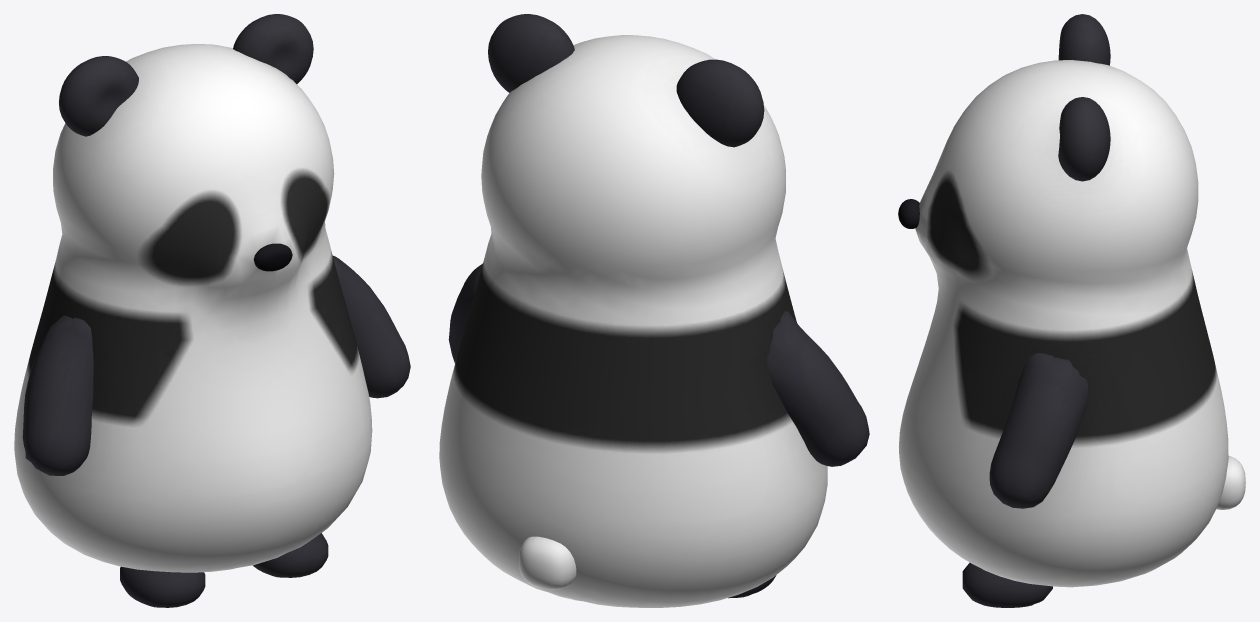
File: panda.glb
3 renders of one model, left to right at view 1: azimuth 30°, elevation 25°; view 2: azimuth 150°, elevation 25°; view 3: azimuth 270°, elevation 25°, orthographic. The views are drawn at different scales.
Parts seen in each view (by area): view 1: cuerpo, brazoI, brazoD, orejaI, orejaD, cabeza; view 2: cuerpo, brazoI, orejaI, orejaD, brazoD; view 3: cuerpo, brazoD, orejaD, orejaI, cabeza.
Part boxes in pixels (x1,y1,x2,y2): cuerpo: (14,44,372,607); brazoI: (22,315,93,475); brazoD: (333,255,410,398); orejaI: (59,56,138,136); orejaD: (233,14,313,83); cabeza: (253,243,292,271); cuerpo: (439,35,827,607); brazoI: (767,311,869,466); orejaI: (676,59,764,147); orejaD: (488,14,574,92); brazoD: (448,263,482,363); cuerpo: (898,60,1245,607); brazoD: (989,353,1088,508); orejaD: (1058,97,1110,181); orejaI: (1058,14,1110,65); cabeza: (898,199,919,228).
Size of the model in its own units: 1.85 by 2.41 by 1.49.
3 materials, 3 textured.
